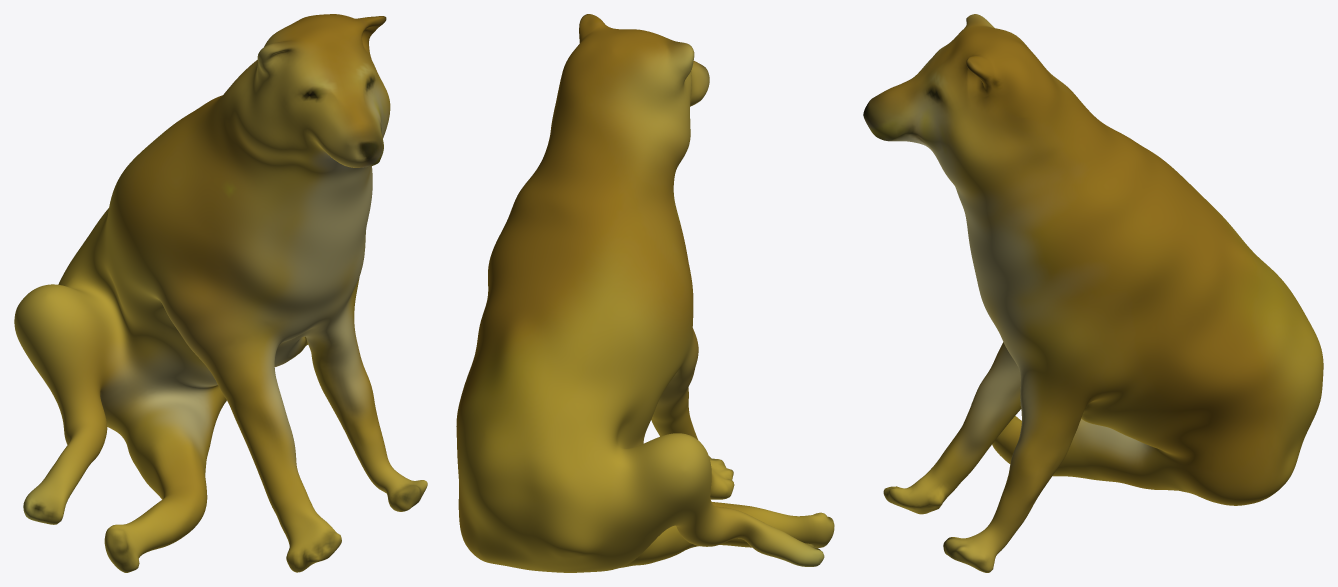
Rendered from cheems.glb.
3 renders of one model, left to right at view 1: azimuth 30°, elevation 25°; view 2: azimuth 150°, elevation 25°; view 3: azimuth 270°, elevation 25°, orthographic. The views are drawn at different scales.
Parts seen in each view (by area): view 1: PM3D_Dobermann_ZSpheres; view 2: PM3D_Dobermann_ZSpheres; view 3: PM3D_Dobermann_ZSpheres.
Part boxes in pixels (<box>): PM3D_Dobermann_ZSpheres: <box>14,14,427,572</box>; PM3D_Dobermann_ZSpheres: <box>456,14,834,572</box>; PM3D_Dobermann_ZSpheres: <box>863,14,1323,572</box>.
Bounding box in the file's own units: 2.9 × 4.09 × 3.39.
